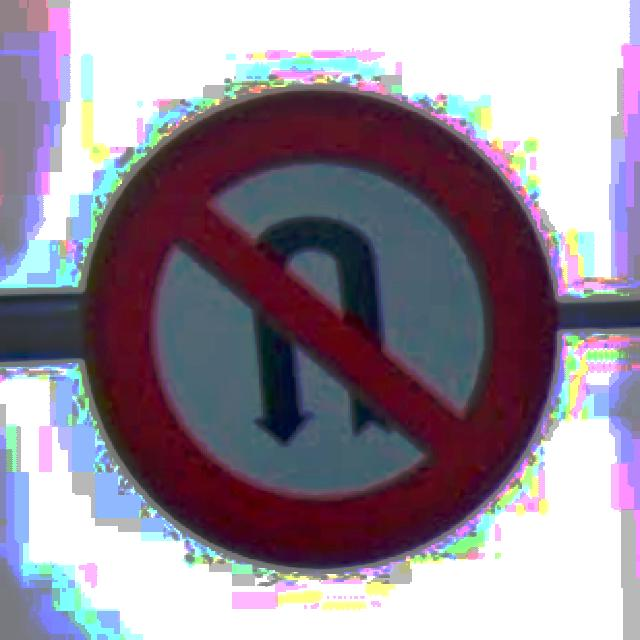nouturn: (81, 89, 557, 572)
